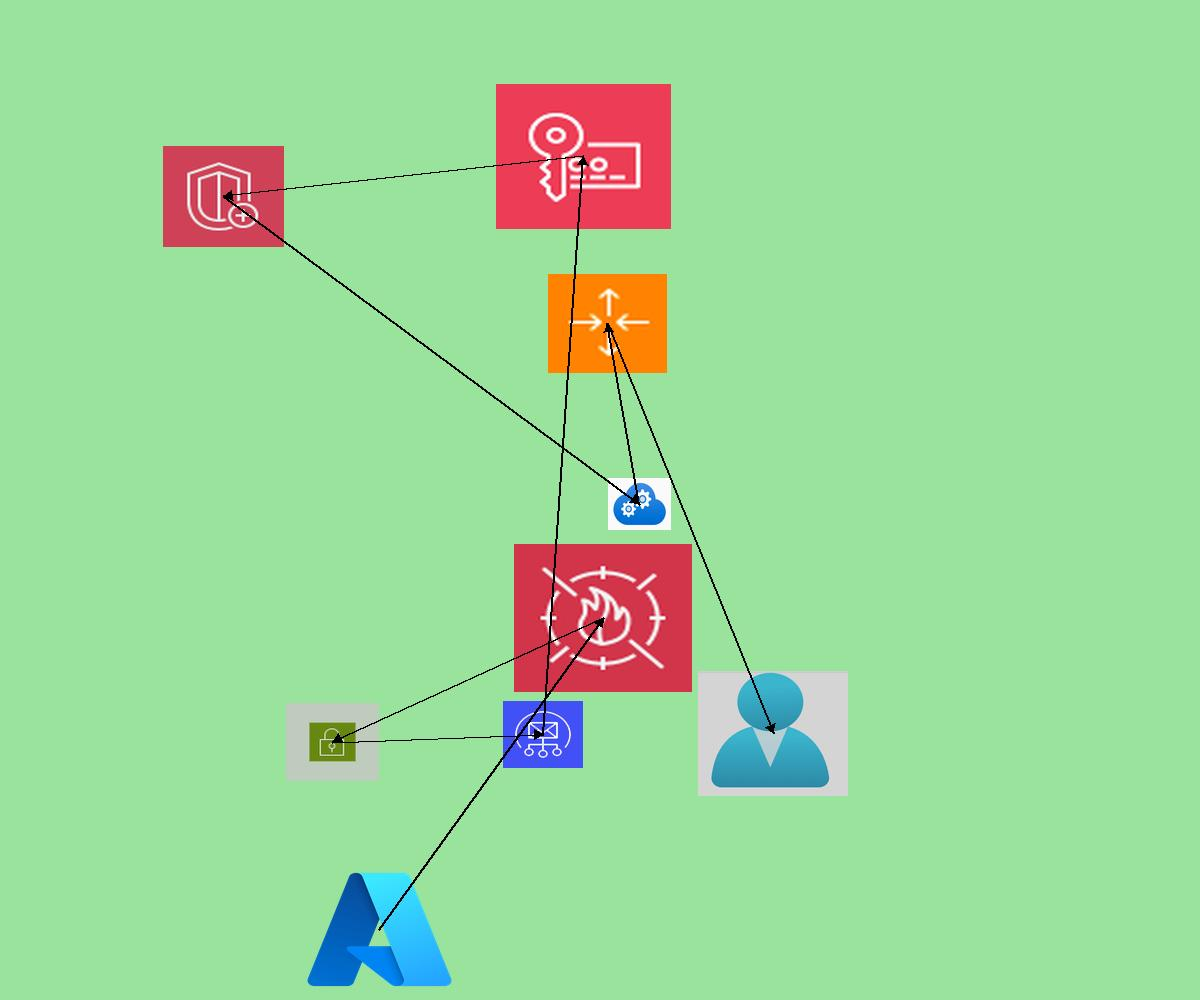AWS-Key-Management-Service: (496, 84, 671, 229)
AWS-Public-subnet: (286, 703, 379, 781)
AWS-Scaling-group: (548, 274, 667, 373)
AWS-Shield: (163, 146, 284, 247)
AWS-Simple-Email-Service: (503, 701, 583, 768)
AWS-WAF: (514, 544, 692, 692)
Azure_cloud_services: (608, 478, 671, 530)
Azure_services: (301, 864, 458, 995)
Azure_users: (698, 671, 848, 796)
